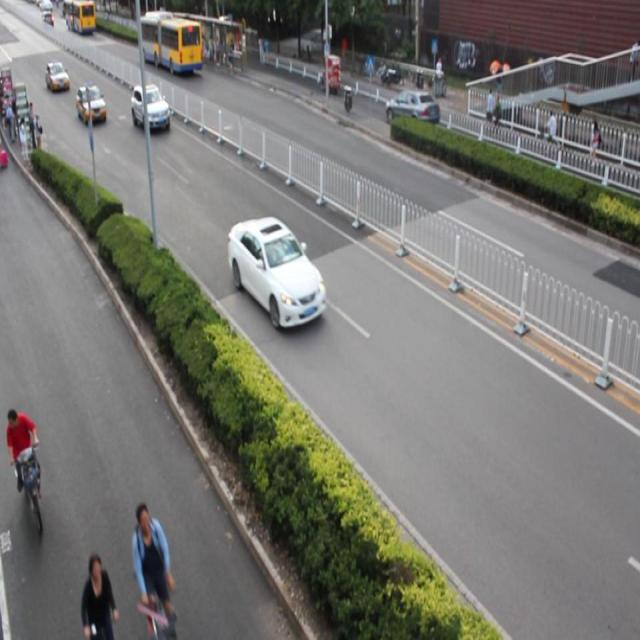car: (228, 216, 326, 330), (385, 89, 438, 134), (132, 84, 170, 134), (76, 85, 106, 124)
van: (138, 12, 203, 76)
